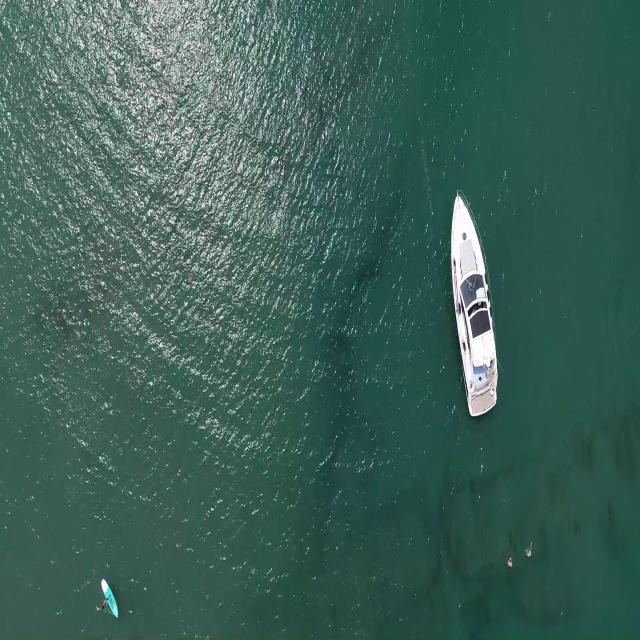boat: (448, 187, 504, 421)
person: (523, 544, 536, 558), (100, 594, 111, 609), (506, 557, 514, 567)
surfboard: (101, 576, 118, 626)
